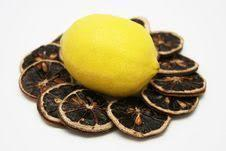lemon: (59, 13, 159, 96)
